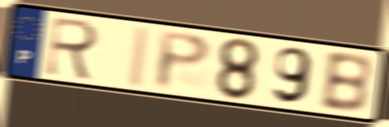8: (215, 36, 261, 102)
9: (270, 45, 313, 106)
B: (318, 51, 374, 115)
I: (125, 24, 154, 90)
P: (154, 29, 214, 92)
R: (43, 14, 102, 83)
